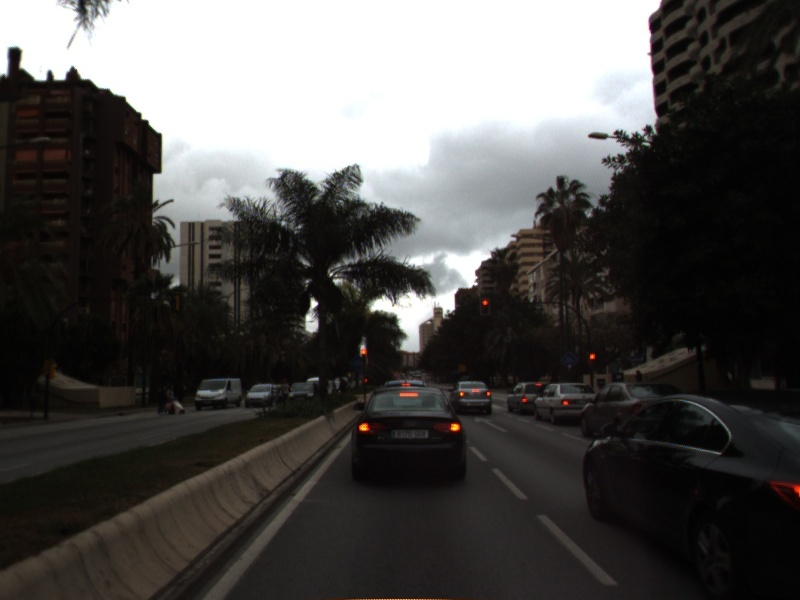STRAIGHT: (473, 414, 510, 434)
